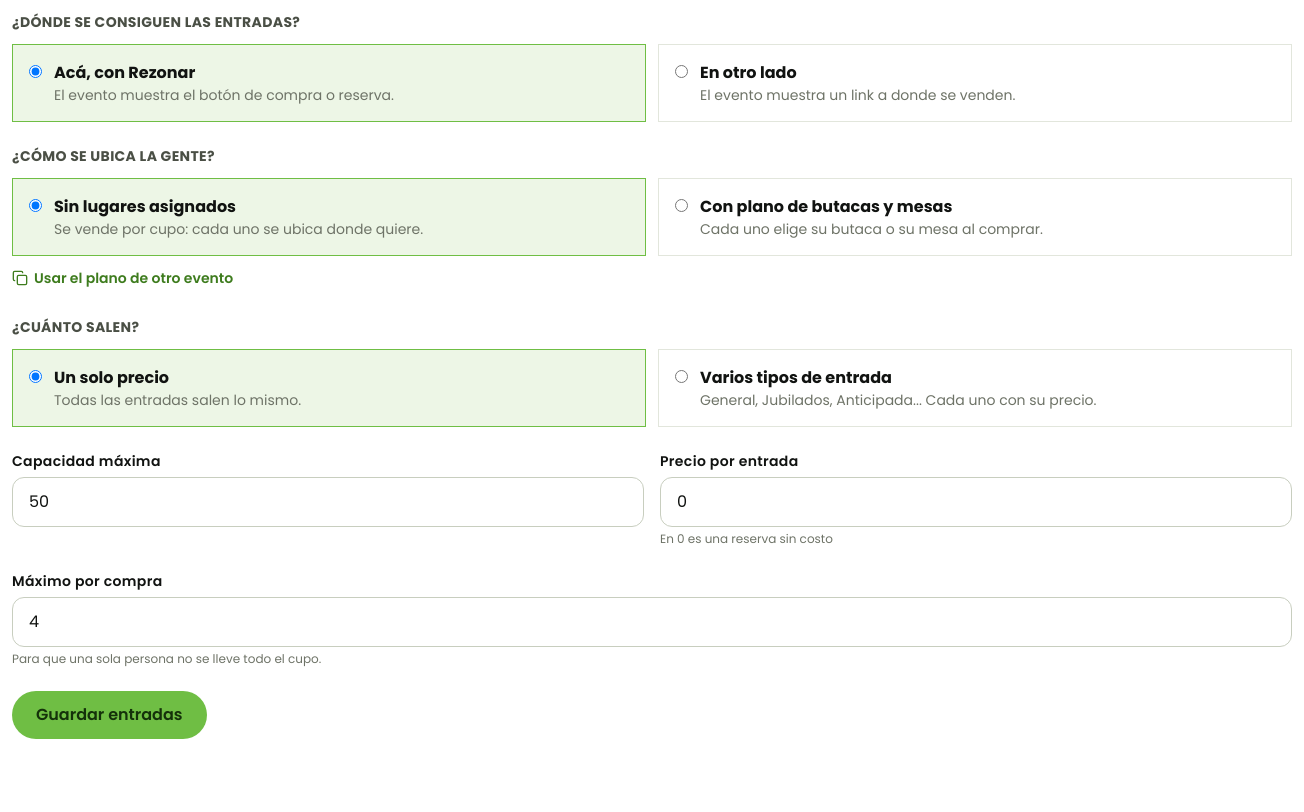
Test case: PanelEntradas › guardar el link › avisa que al guardar se deja de vender por Rezonar
Click the radio button labelled "En otro lado El evento muestra un link a donde se venden." at x=682, y=72, box [675,65,688,78]
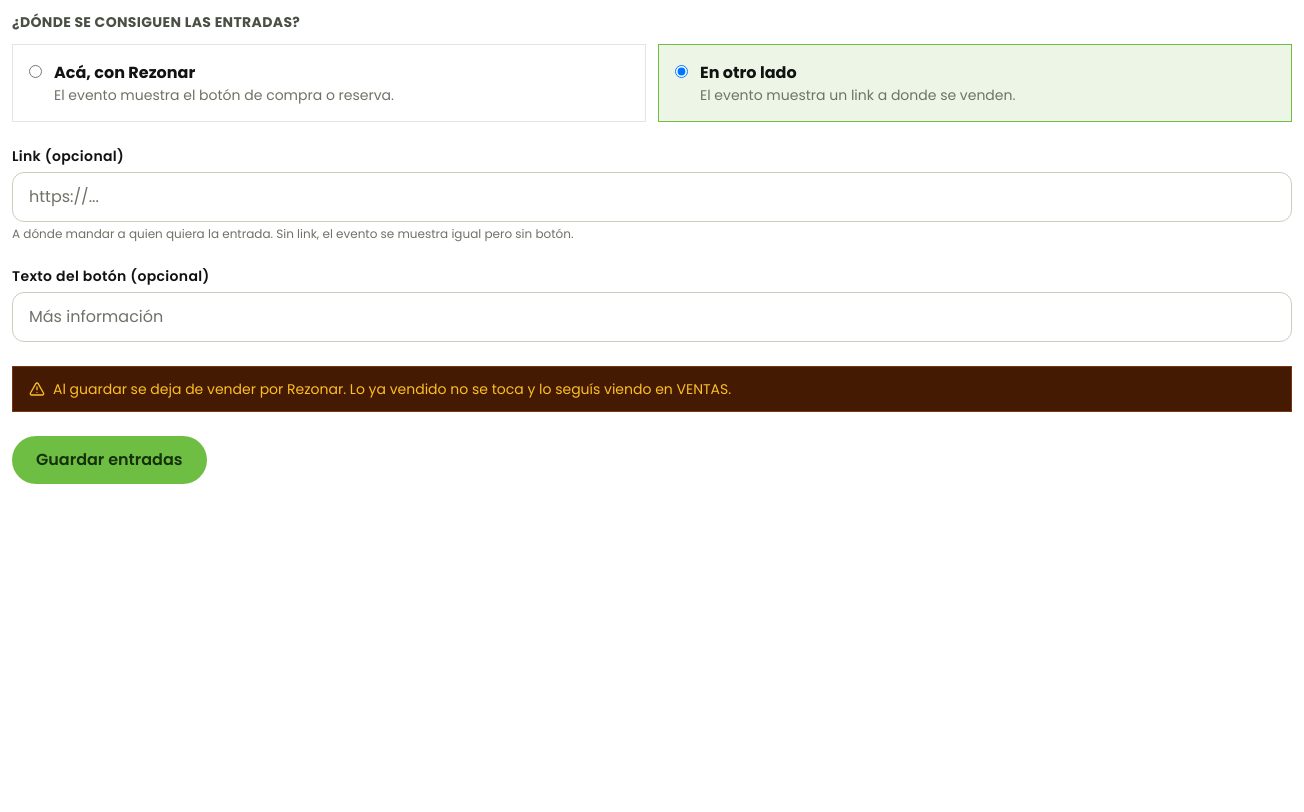
Expected: the text "se deja de vender por Rezonar" is shown, [53,379,731,399]
